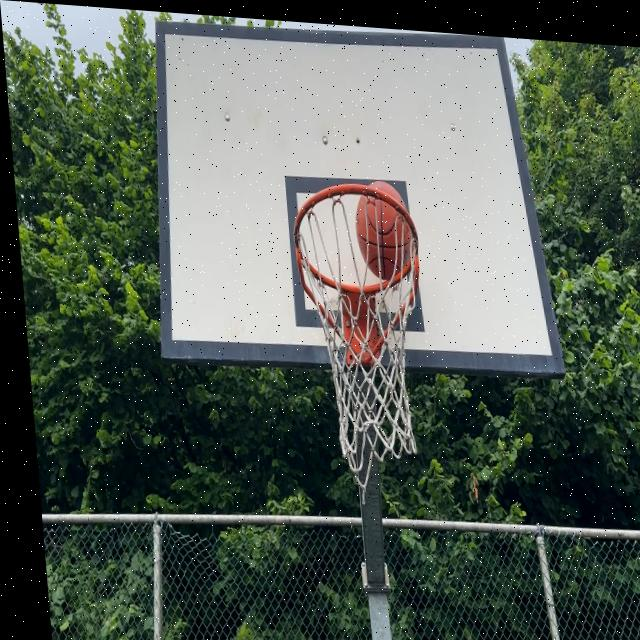rebound_hit: (350, 179, 419, 285)
